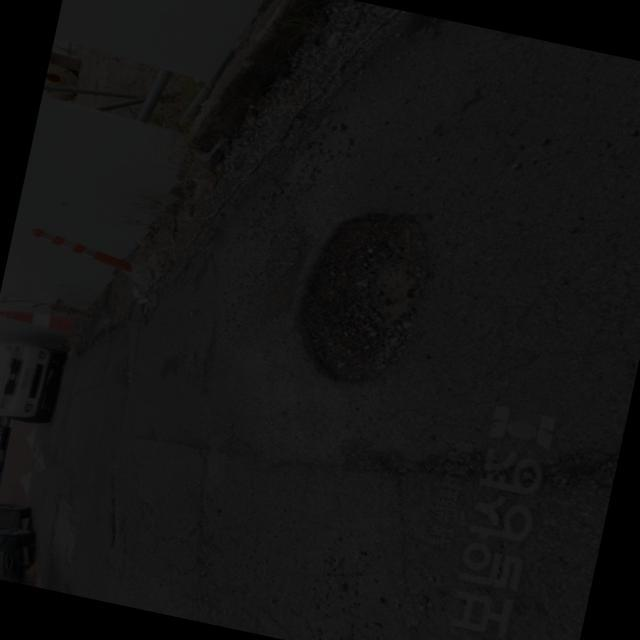pothole: (240, 174, 496, 438)
